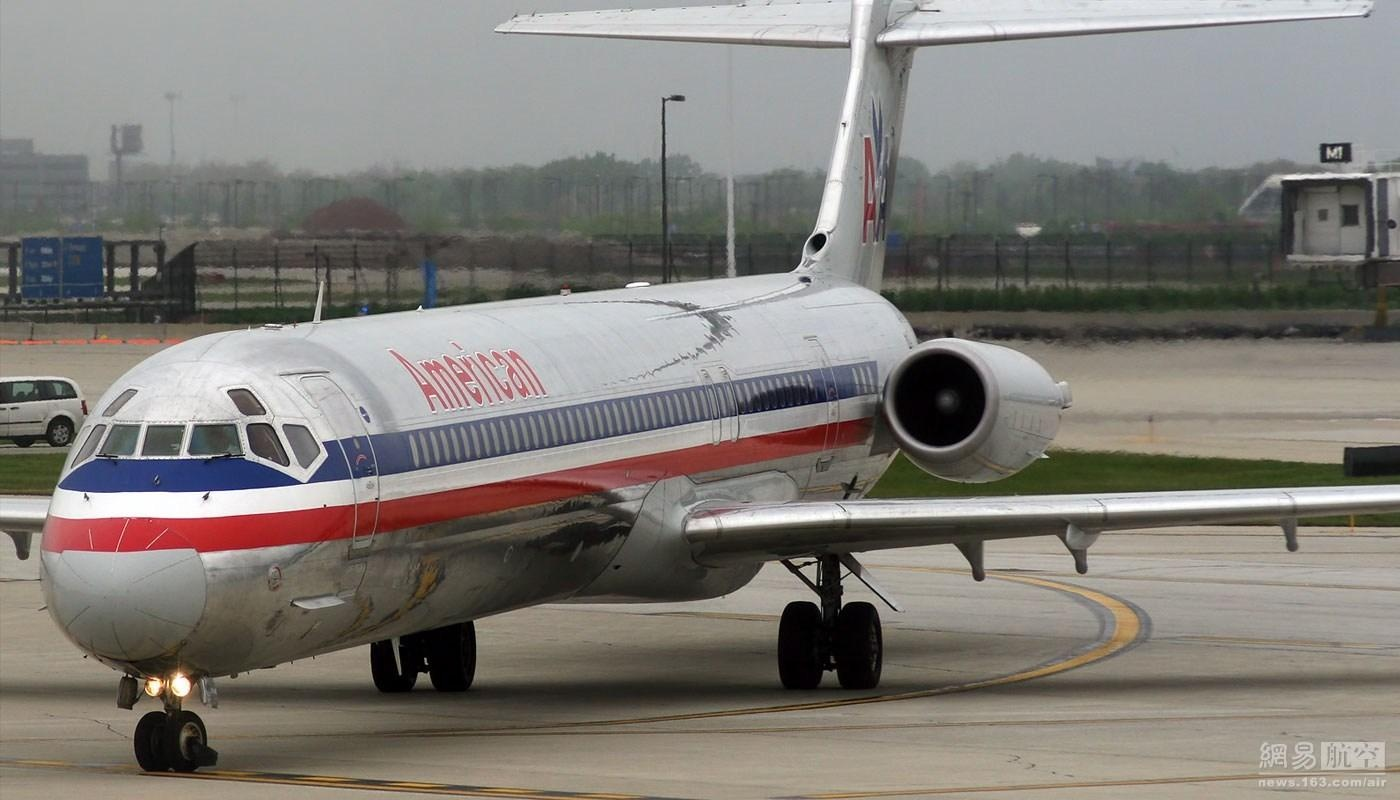airplane: (36, 1, 1385, 774)
